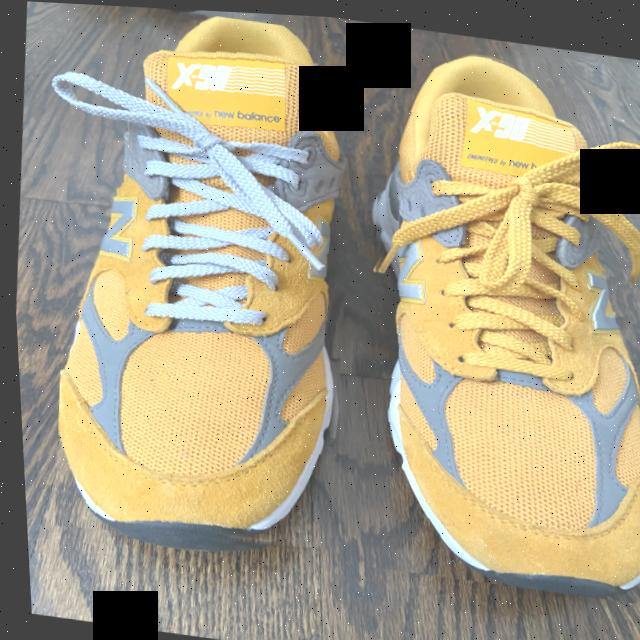shoe: (27, 1, 379, 564), (332, 32, 640, 599)
